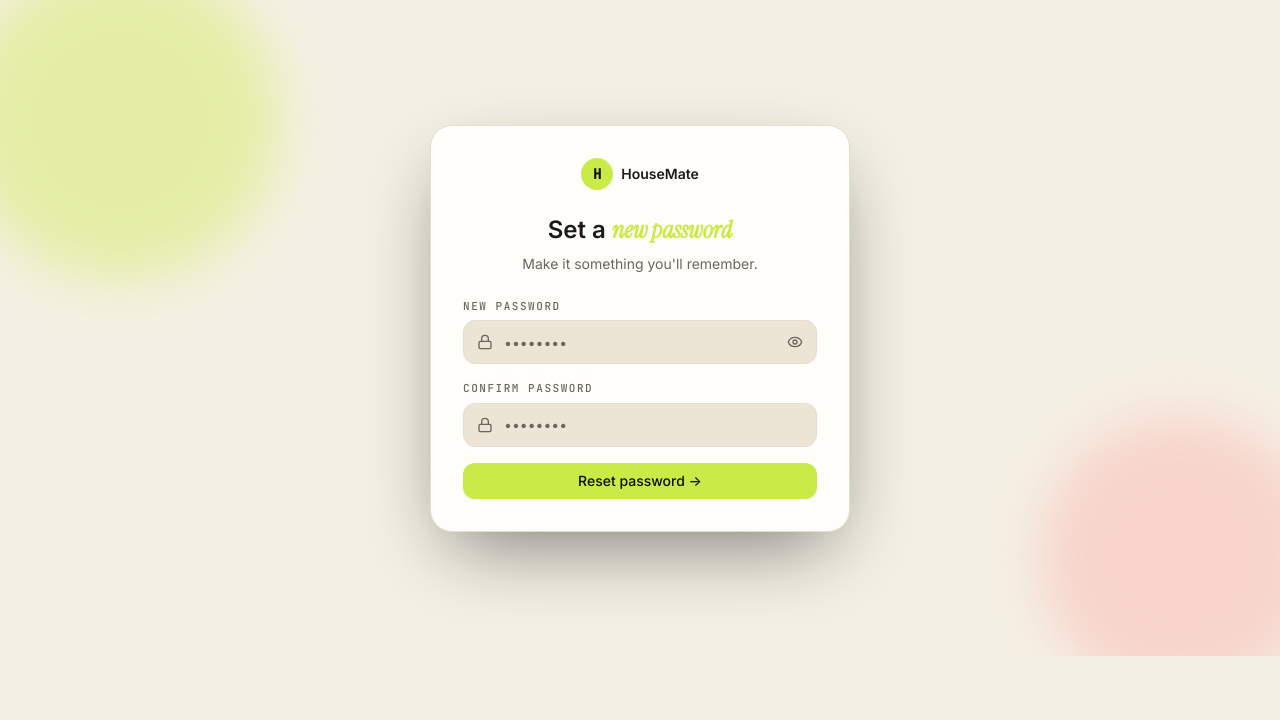
Scenario: <ResetPasswordPage /> › rejects mismatched passwords (client-side validation)
The width and height of the screenshot is (1280, 720).
Type "BrandNewPass1!" into the 1st password field with placeholder "••••••••". click: (640, 342)
box: [463,320,817,364]
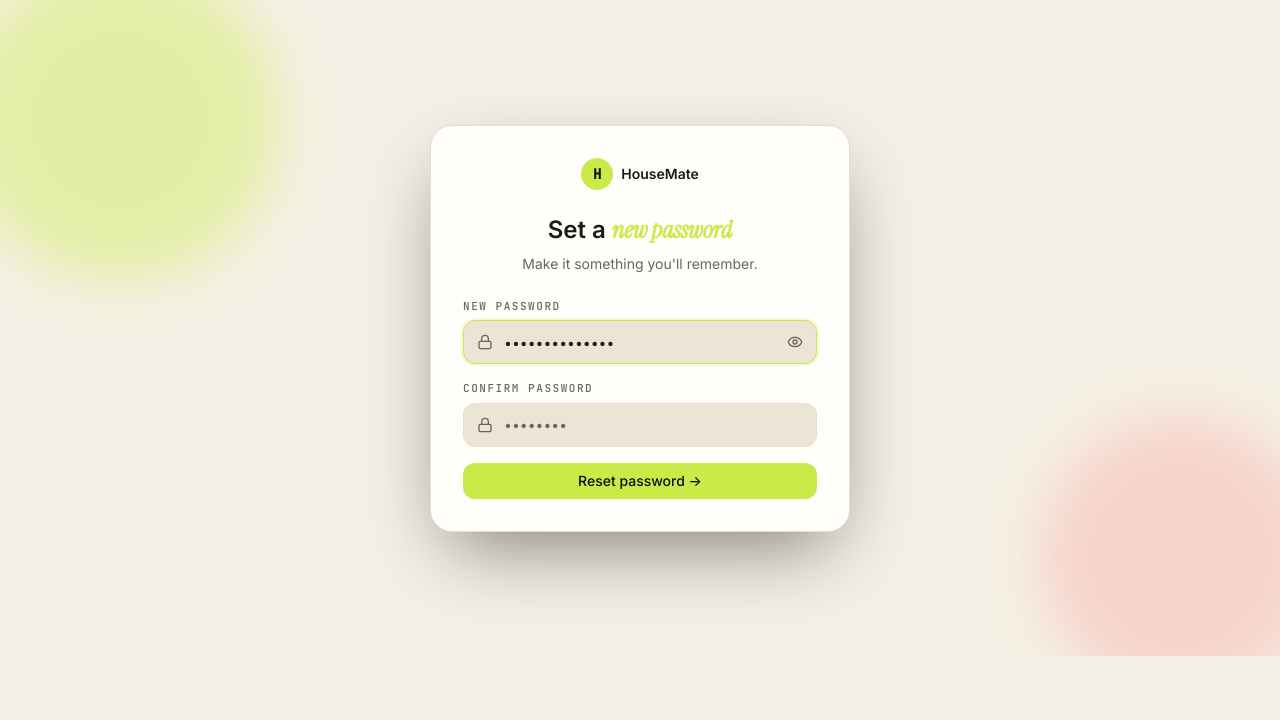
Type "Different1!" into the password field with placeholder "••••••••". click: (640, 424)
box: [463,402,817,446]
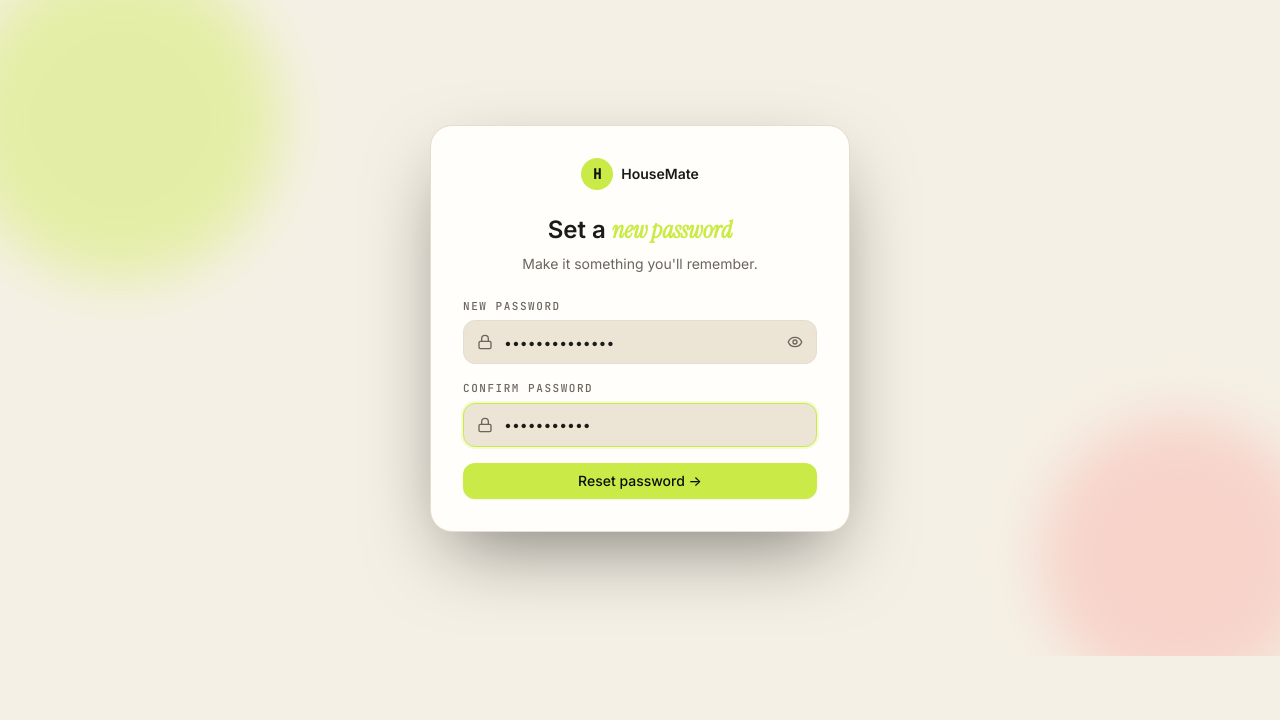
Click the button "Reset password →". click: (640, 480)
box: [463,462,817,498]
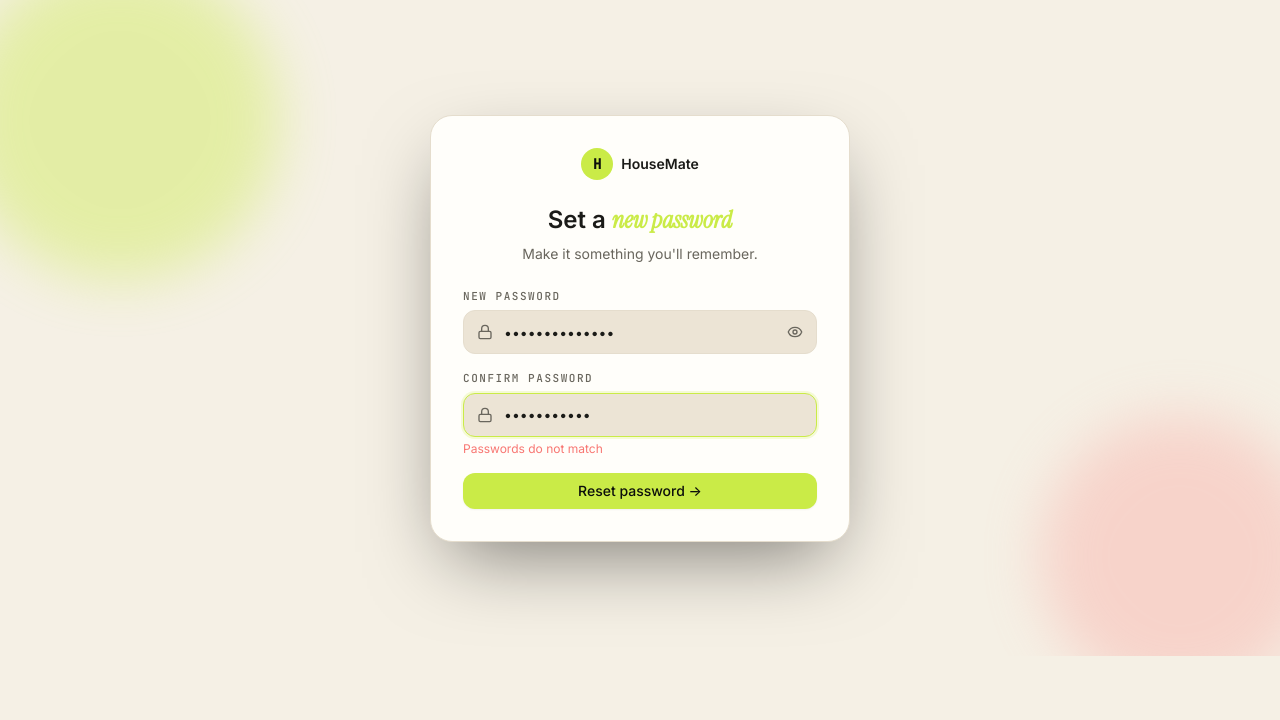
Now the text "Passwords do not match" is shown, box [463,440,603,456]
